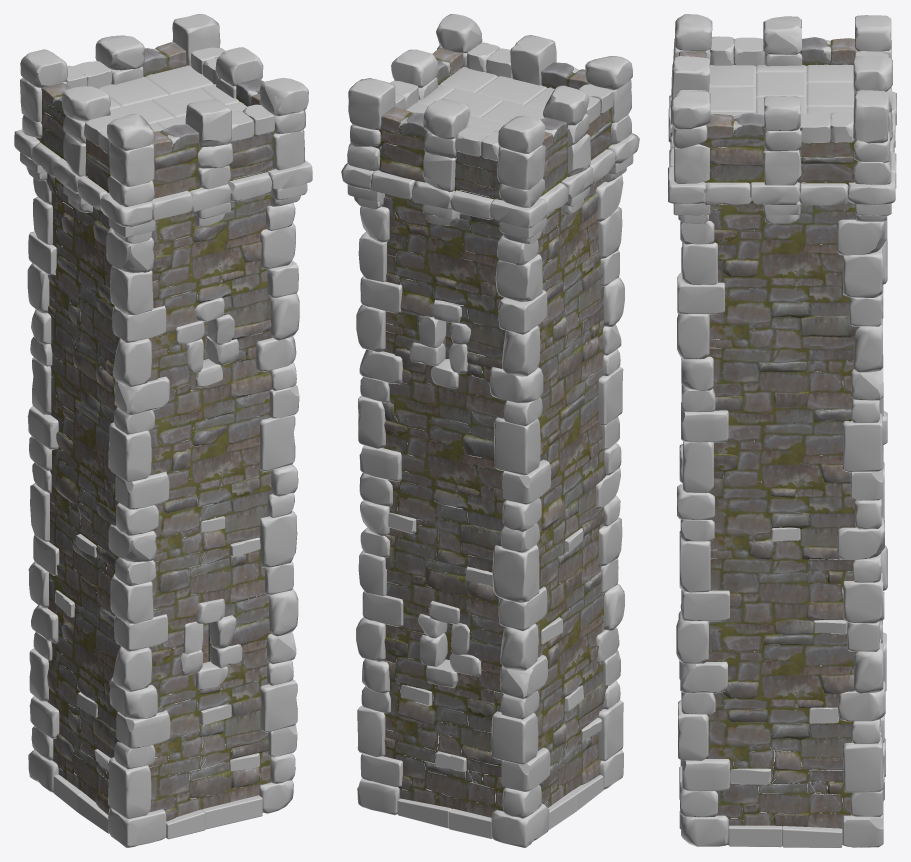
3 views of the same model, side by side, from view 1: azimuth 30°, elevation 25°; view 2: azimuth 150°, elevation 25°; view 3: azimuth 270°, elevation 25° (orthographic). The views are drawn at different scales.
Parts seen in each view (by area): view 1: SM_Castle_Tower_4x12_01_v1_LOD0; view 2: SM_Castle_Tower_4x12_01_v1_LOD0; view 3: SM_Castle_Tower_4x12_01_v1_LOD0.
Part boxes in pixels (<box>): SM_Castle_Tower_4x12_01_v1_LOD0: <box>14,14,312,847</box>; SM_Castle_Tower_4x12_01_v1_LOD0: <box>341,14,639,847</box>; SM_Castle_Tower_4x12_01_v1_LOD0: <box>668,14,896,847</box>.
Bounding box in the file's own units: 3.92 × 14.15 × 3.93.
